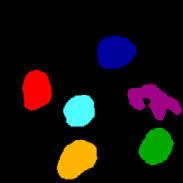cell: (126, 85, 182, 120), (57, 138, 98, 179), (96, 37, 136, 68), (139, 128, 173, 163), (62, 94, 96, 127), (23, 69, 51, 109), (154, 87, 178, 101), (127, 84, 146, 90)
